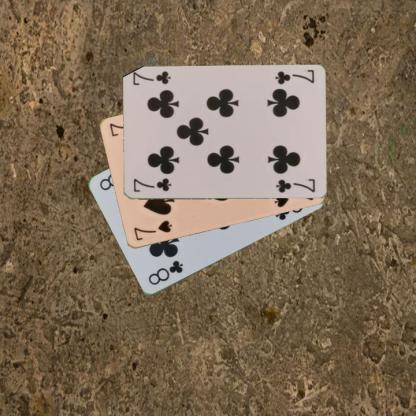7c: (272, 67, 315, 86), (131, 176, 172, 193)
7s: (130, 218, 173, 242)
8c: (146, 258, 184, 286)
